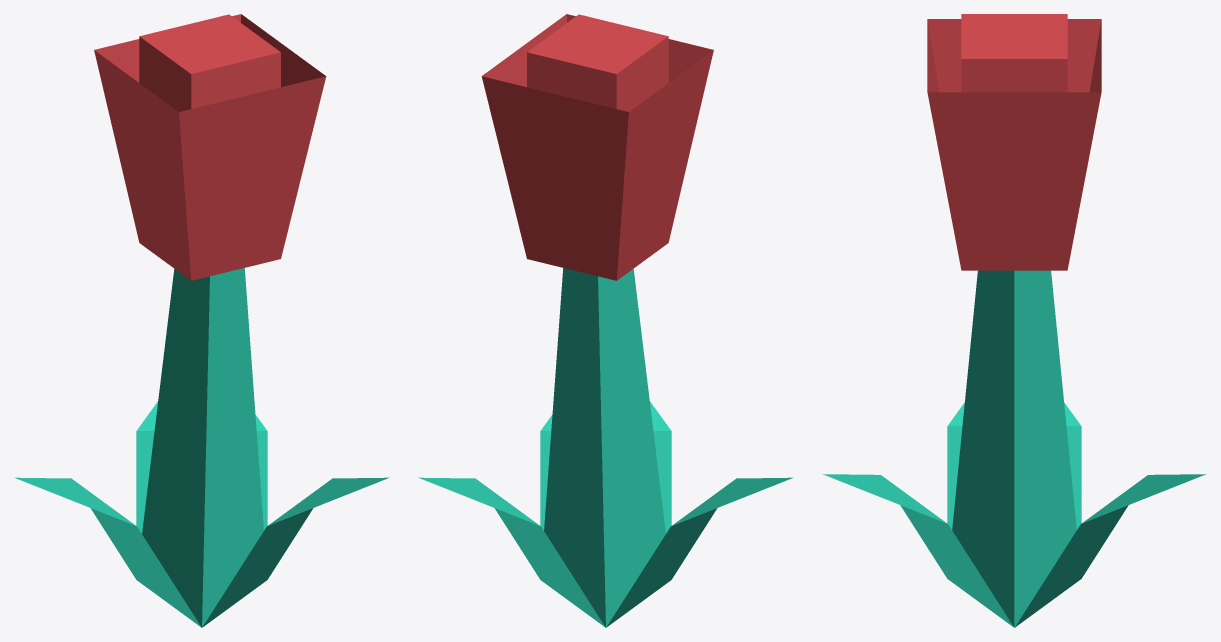
Rendered from flower_redA.obj.
3 renders of one model, left to right at view 1: azimuth 30°, elevation 25°; view 2: azimuth 150°, elevation 25°; view 3: azimuth 270°, elevation 25°, orthographic. The views are drawn at different scales.
Parts seen in each view (by area): view 1: Mesh flower_redA-1, Mesh flower_redA-0; view 2: Mesh flower_redA-1, Mesh flower_redA-0; view 3: Mesh flower_redA-0, Mesh flower_redA-1.
Part boxes in pixels (x1,y1,x2,y2): Mesh flower_redA-1: (94,14,326,280); Mesh flower_redA-0: (14,268,389,627); Mesh flower_redA-1: (481,14,713,280); Mesh flower_redA-0: (418,268,793,627); Mesh flower_redA-0: (822,270,1206,627); Mesh flower_redA-1: (927,14,1101,270).
Bounding box in the file's own units: 0.1591 × 0.2925 × 0.1811.
